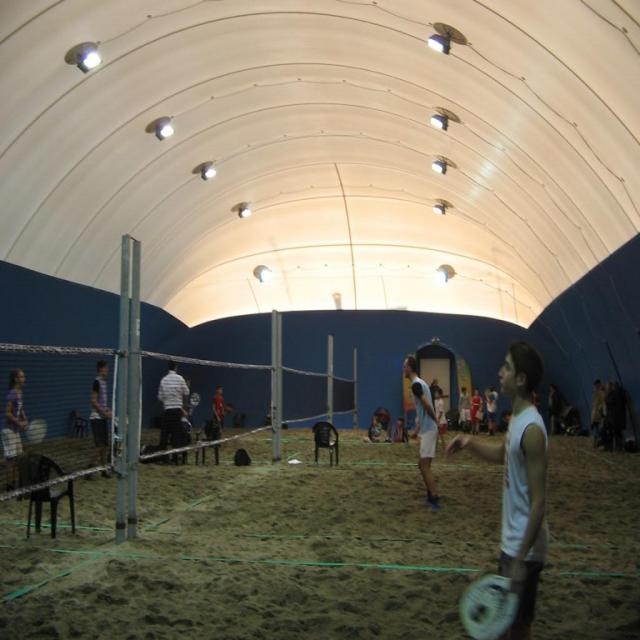nomask: (498, 352, 516, 393), (17, 372, 24, 386), (402, 358, 408, 374), (101, 364, 109, 376)
